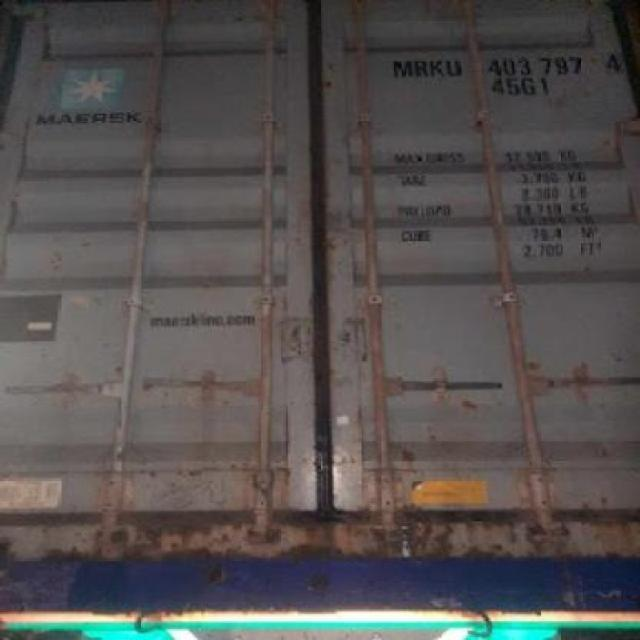ISO: (493, 78, 552, 97)
container_number: (390, 50, 620, 78)
